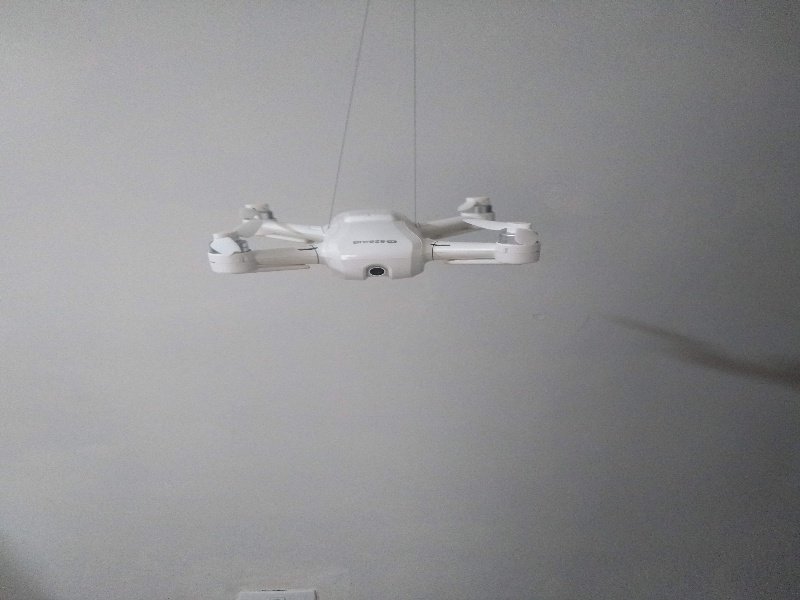drone: (202, 189, 542, 283)
